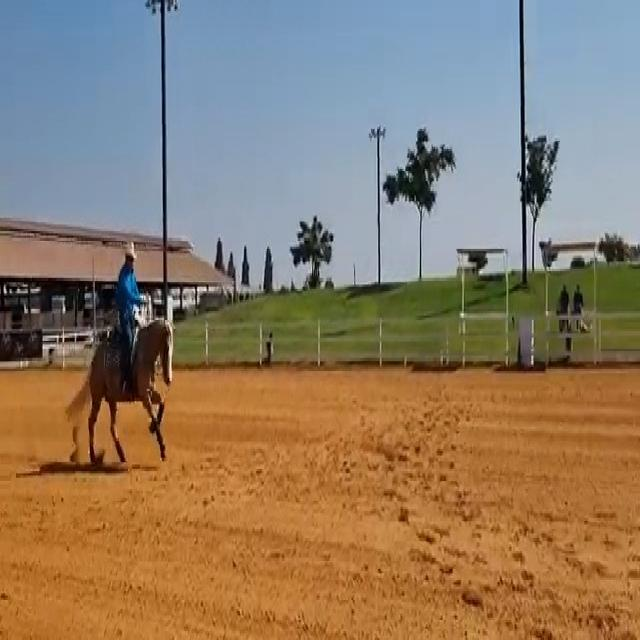horse: (63, 313, 176, 469)
